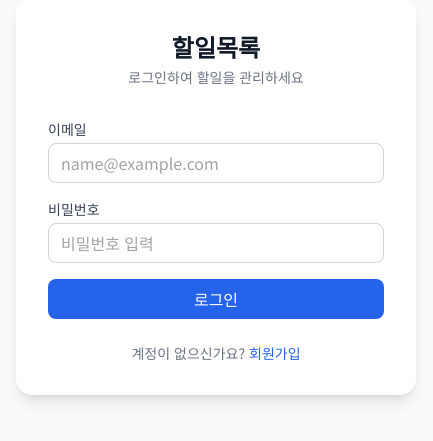
Test case: LoginPage › 이메일 미입력 시 에러 메시지가 표시된다
What coordinates should you click on to do the following:
click the button "로그인"
I would click on:
 (216, 299)
Its box is [48,279,384,319].
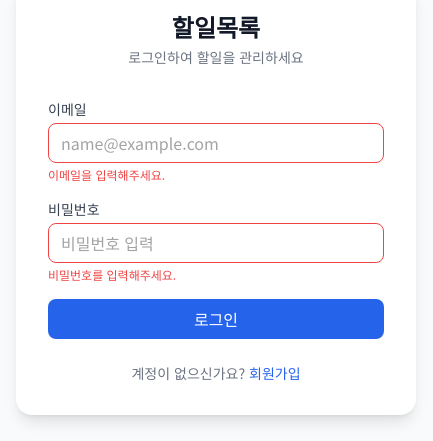
Now the text "이메일을 입력해주세요." is shown, box [48,166,165,183]
